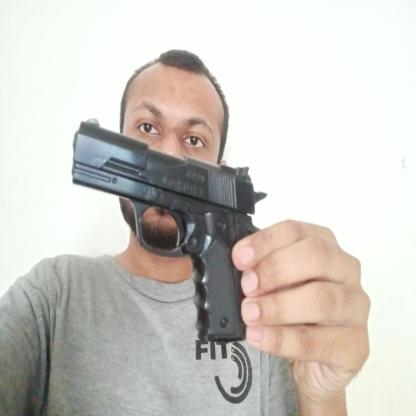handgun: (70, 116, 268, 344)
